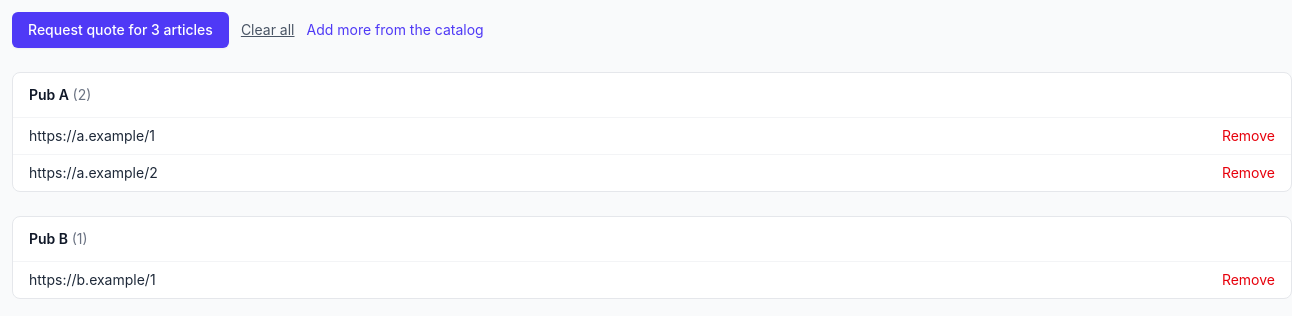
it: ExportReview › clears all after confirmation
This screenshot has width=1292, height=316.
Click the button "Clear all" at (268, 30), box x1=241 y1=20 x2=294 y2=40
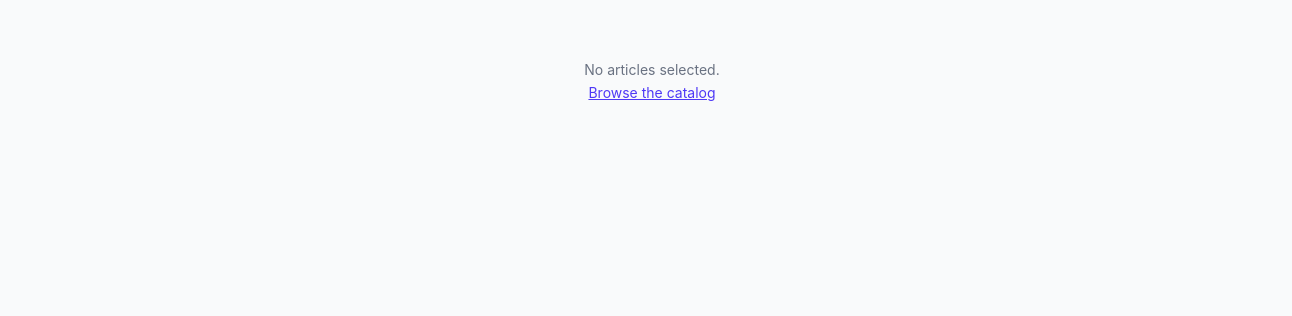
Check: the text "No articles selected." is shown, box x1=584 y1=61 x2=720 y2=78
